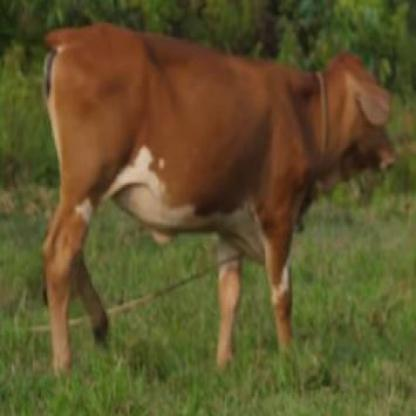cow: (41, 23, 396, 376)
